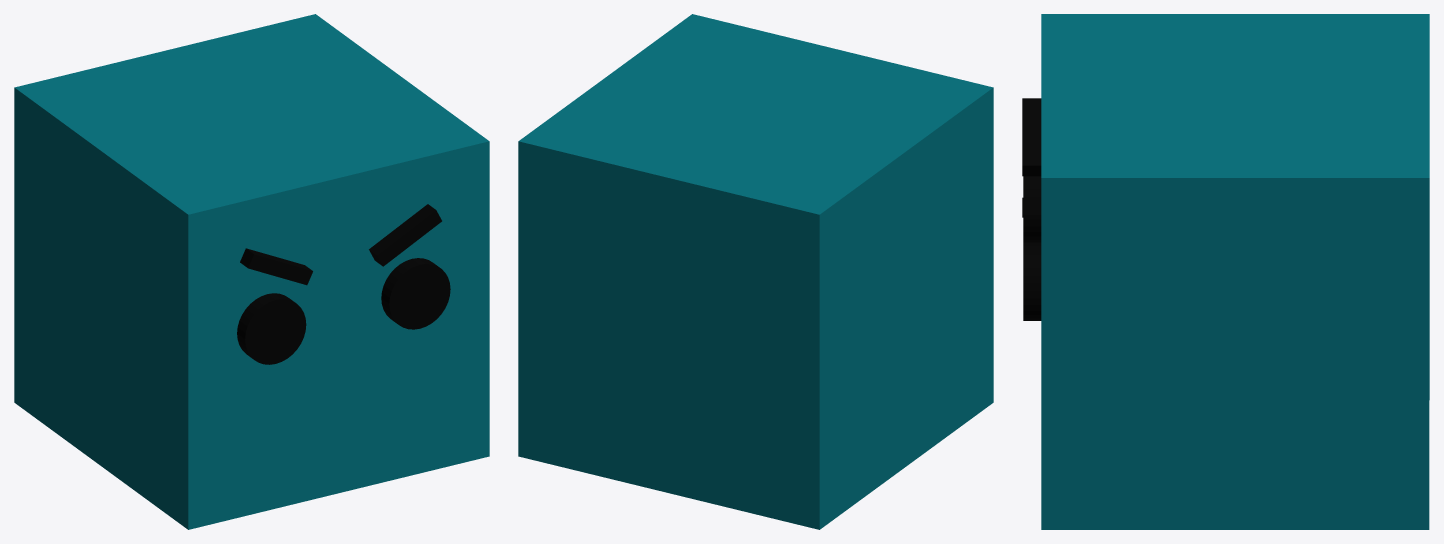
The model's file is BoxPlayer.fbx.
3 views of the same model, side by side, from view 1: azimuth 30°, elevation 25°; view 2: azimuth 150°, elevation 25°; view 3: azimuth 270°, elevation 25° (orthographic). The views are drawn at different scales.
Parts seen in each view (by area): view 1: Cube; view 2: Cube; view 3: Cube.
Boxes of the visible parts, x1,y1,x2,y2 form: Cube: (14,14,489,529); Cube: (518,14,993,529); Cube: (1022,14,1429,529).
Size of the model in its own units: 2 by 2 by 2.1.
